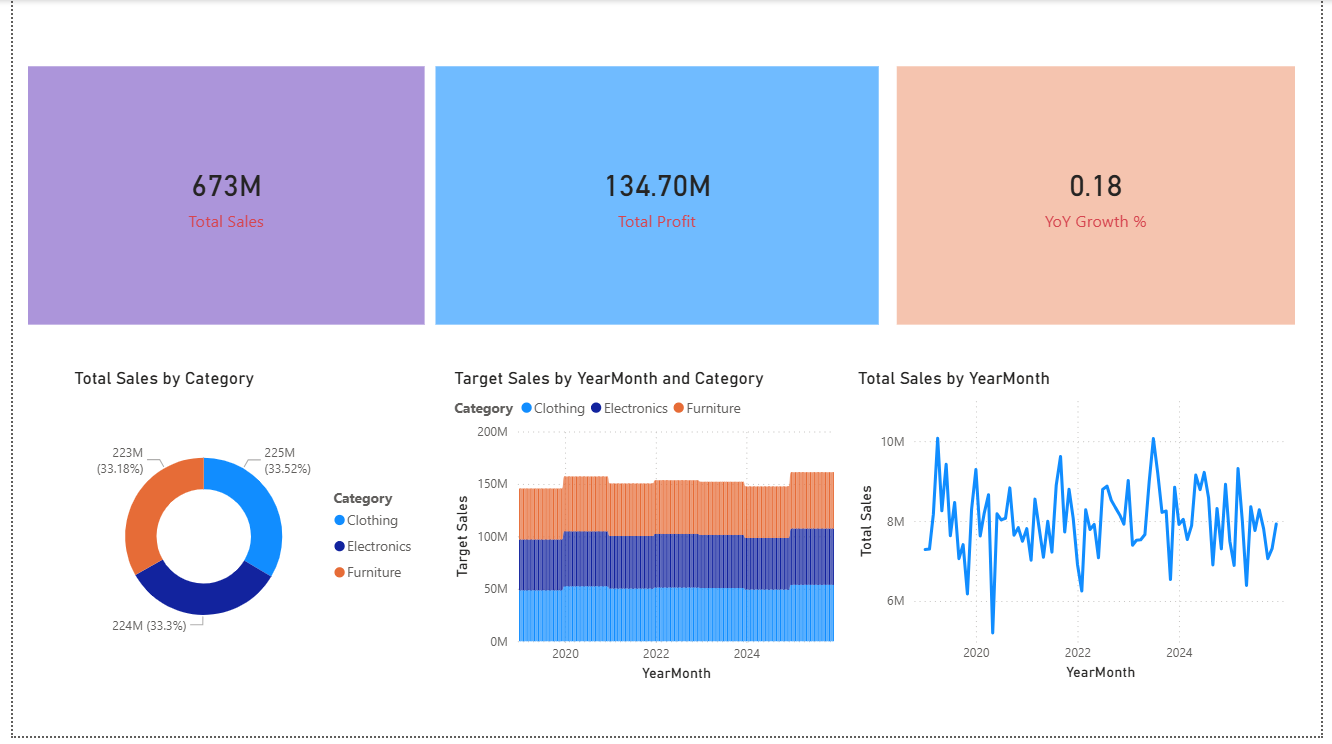

Layout of this report page (visuals, bound fields, positions):
{"tool":"powerbi","page":{"name":"Executive Dashboard","canvas":[1280,720],"ordinal":1},"visuals":[{"type":"card","fields":{"Values":["DimCustomer.Total Sales"]},"box":[15.1,64.5,388.3,252.5],"z":0},{"type":"card","fields":{"Values":["DimCustomer.YoY Growth %"]},"box":[864.5,64.5,389.7,252.5],"z":1000},{"type":"card","fields":{"Values":["DimCustomer.Total Profit"]},"box":[413,64.5,433.6,252.5],"z":2000},{"type":"donutChart","fields":{"Y":["DimCustomer.Total Sales"],"Category":["DimProduct.Category"]},"box":[54.9,359.5,348.5,311.5],"z":3000},{"type":"ribbonChart","fields":{"Category":["DimDate.YearMonth"],"Y":["DimCustomer.Target Sales"],"Series":["DimProduct.Category"]},"box":[426.8,359.5,395.2,311.5],"z":4000},{"type":"lineChart","fields":{"Category":["DimDate.YearMonth"],"Y":["DimCustomer.Total Sales"]},"box":[822,359.5,432.2,311.5],"z":5000}]}

Visuals, with their boxes in screenshot pixels (x1, y1, x2, y2), scaled from the page's 1280x720 canvas onto the 1332x744 screenshot:
card - DimCustomer.Total Sales: [16, 67, 420, 328]
card - DimCustomer.YoY Growth %: [900, 67, 1305, 328]
card - DimCustomer.Total Profit: [430, 67, 881, 328]
donutChart - DimCustomer.Total Sales x DimProduct.Category: [57, 371, 420, 693]
ribbonChart - DimDate.YearMonth x DimCustomer.Target Sales: [444, 371, 855, 693]
lineChart - DimDate.YearMonth x DimCustomer.Total Sales: [855, 371, 1305, 693]
